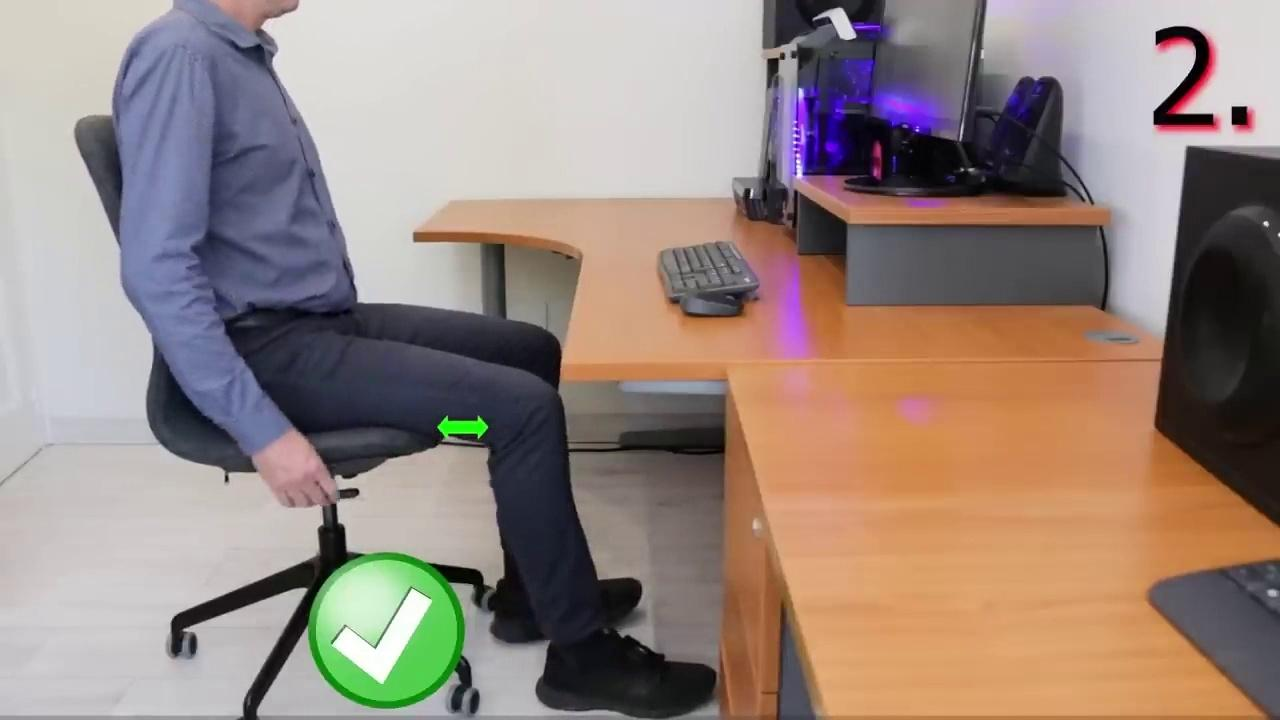GoodPosture: (113, 11, 714, 717)
